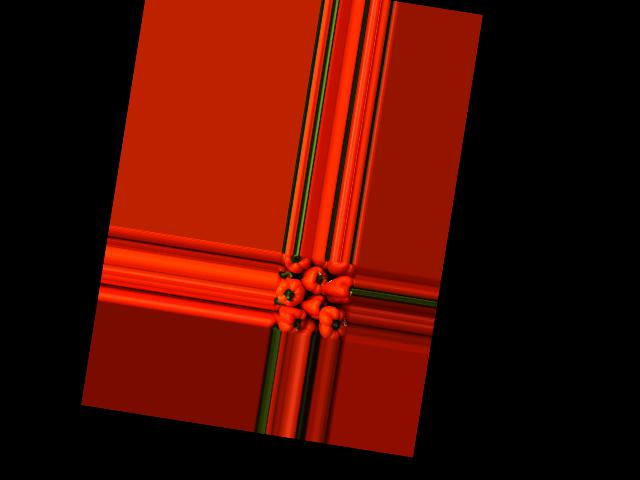bell_pepper: (325, 260, 358, 277)
